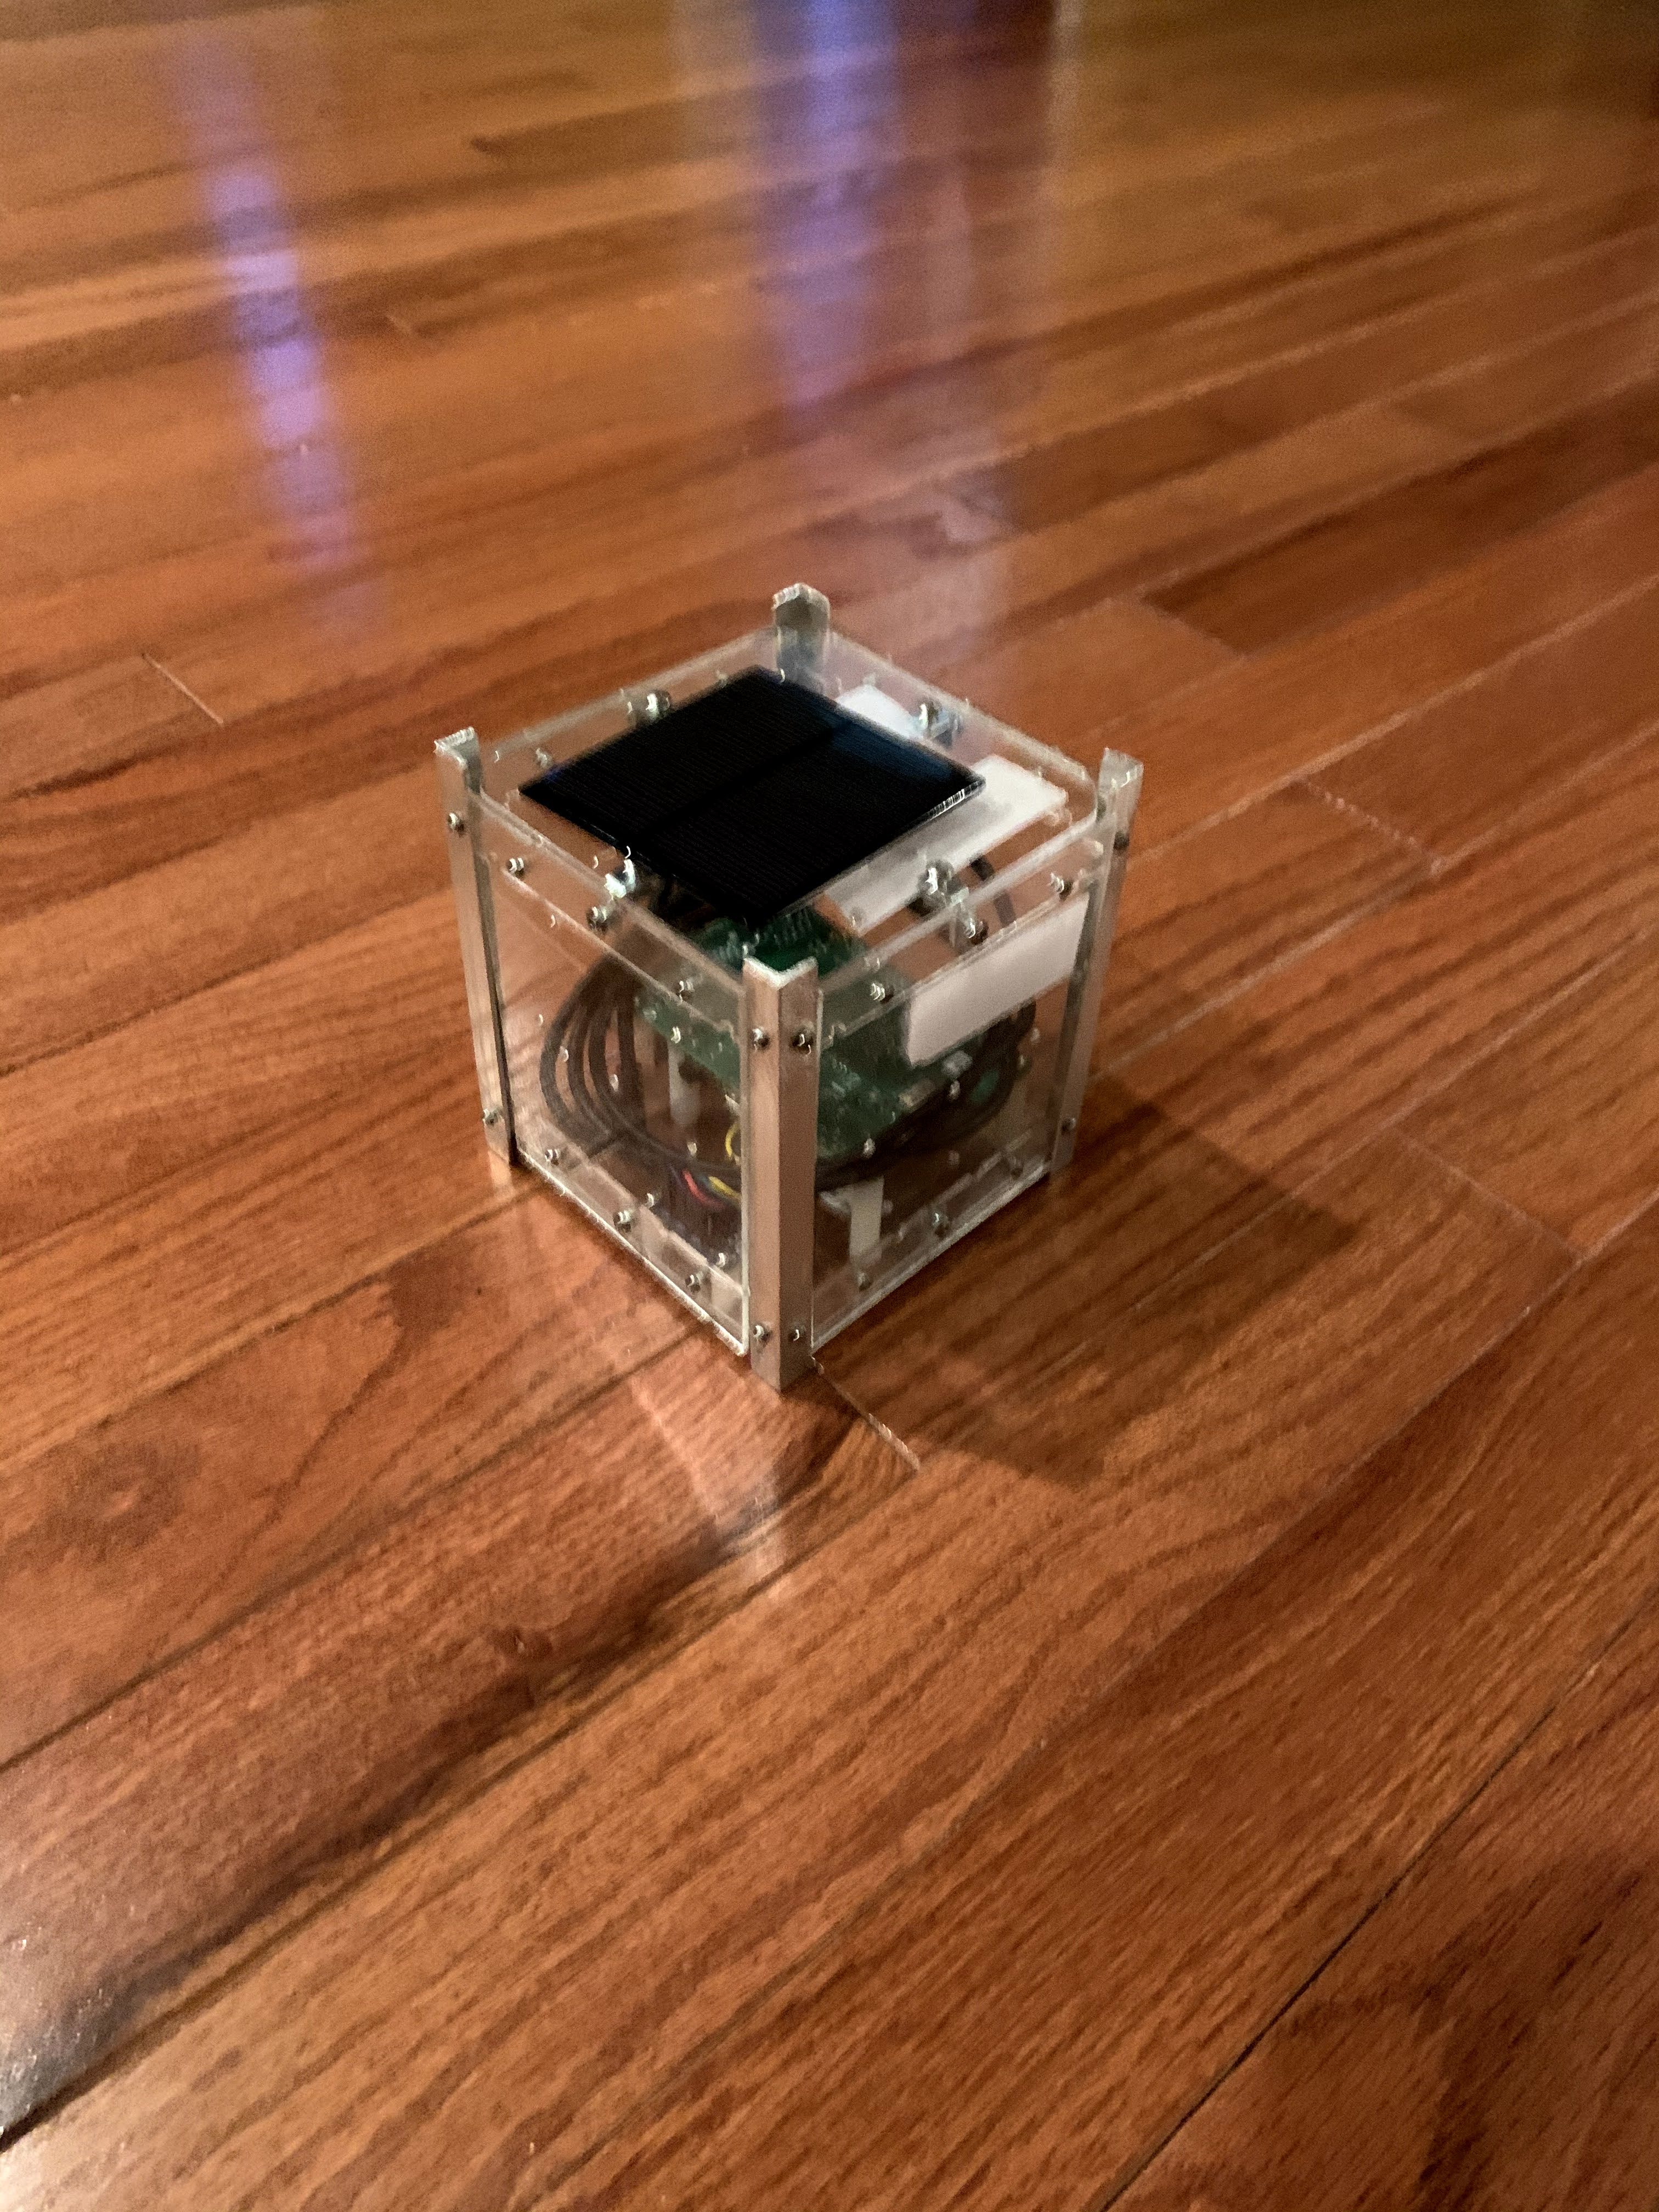Space-debris-cubesat: (389, 577, 1164, 1402)
